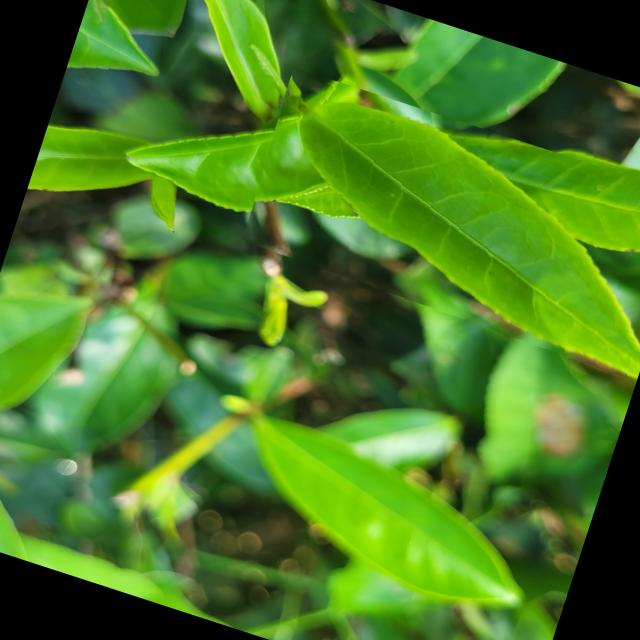Catagory A(1-2 days): (232, 67, 640, 382)
